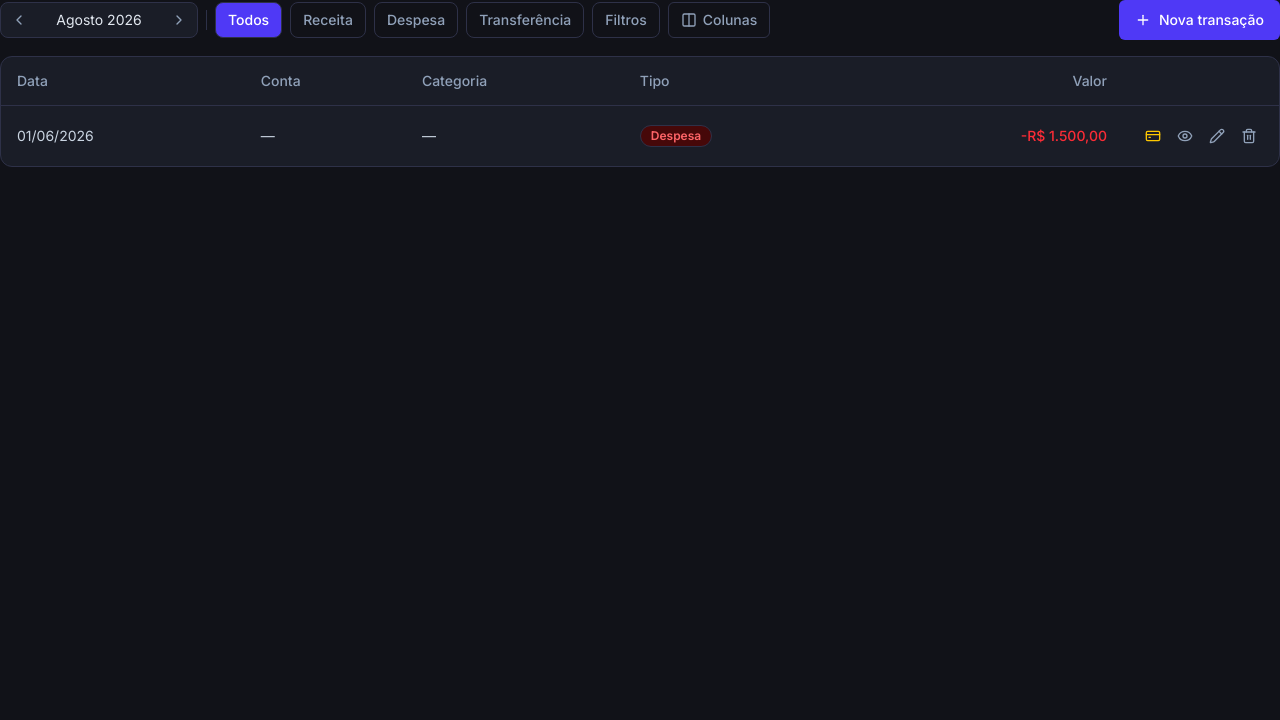
Test: Transactions › abre dialog de pagamento ao clicar em Pagar
This screenshot has width=1280, height=720.
Click the button titled "Efetivar" at coordinates (1153, 136), box [1139, 122, 1167, 150]
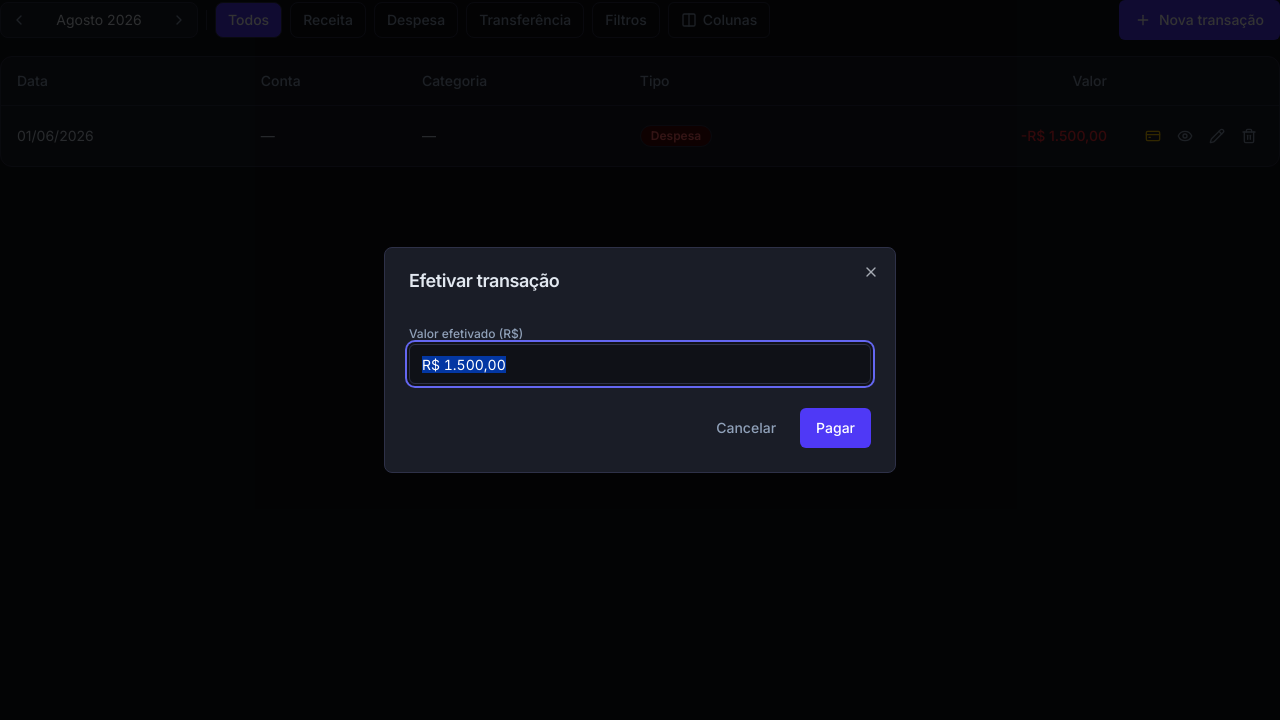
Expected: the heading "Efetivar transação" is shown, [409, 270, 559, 291]
